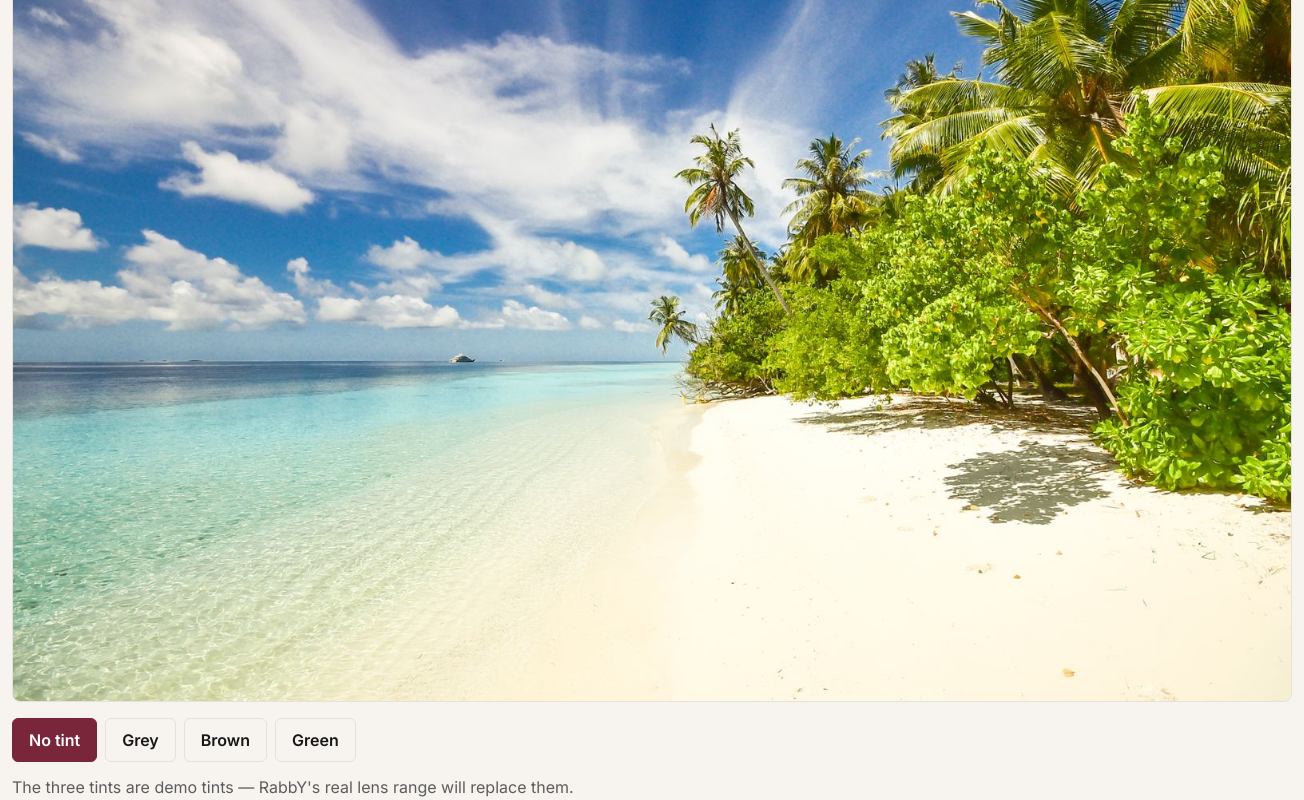
LensSimulator — tint preview (S-7, 1.x-7) › No tint clears the preview and its caption
(page scrolled)
Click the button "Grey".
click(140, 740)  # box [105,718,176,762]
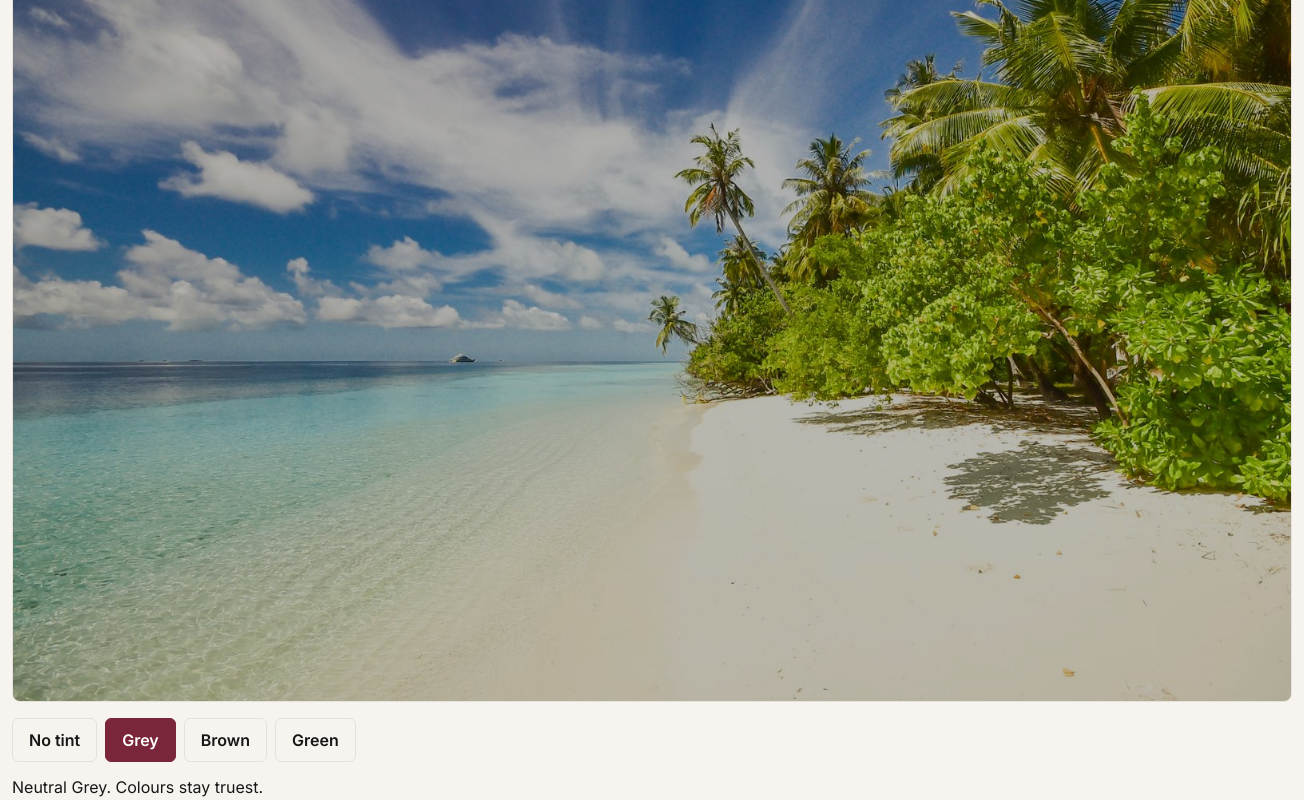
Click the button "No tint".
click(55, 740)  # box [12,718,97,762]
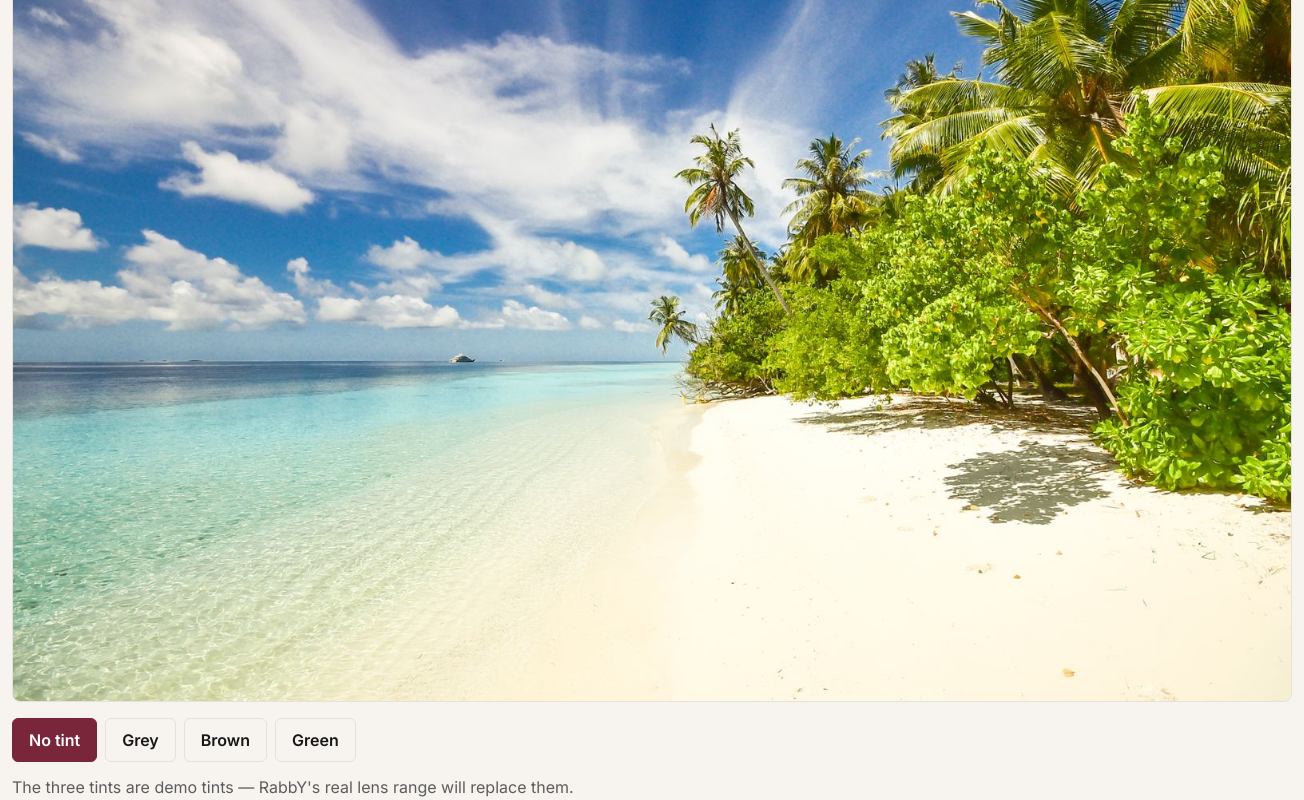
Expected: the text "Neutral Grey. Colours stay truest." is gone
